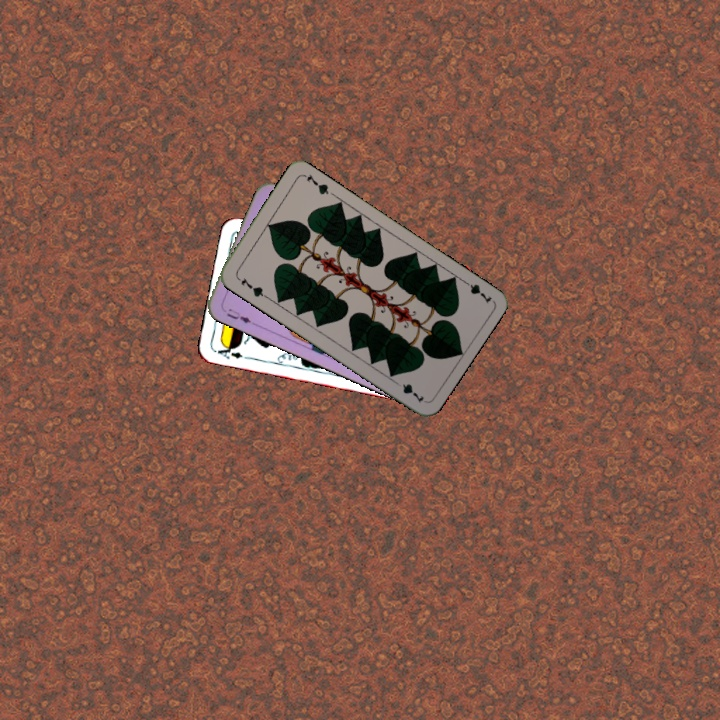EA: (211, 341, 245, 361)
EU: (223, 304, 257, 327)
G7: (458, 275, 494, 306), (233, 273, 269, 300)
